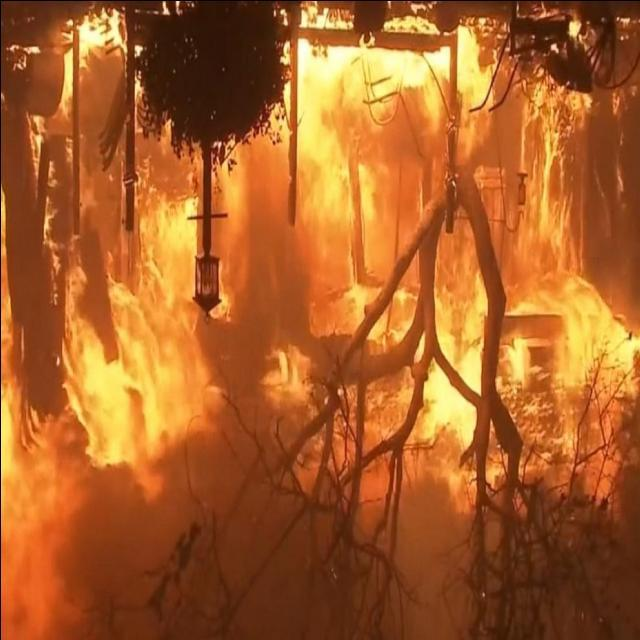Fire: (0, 29, 631, 547)
